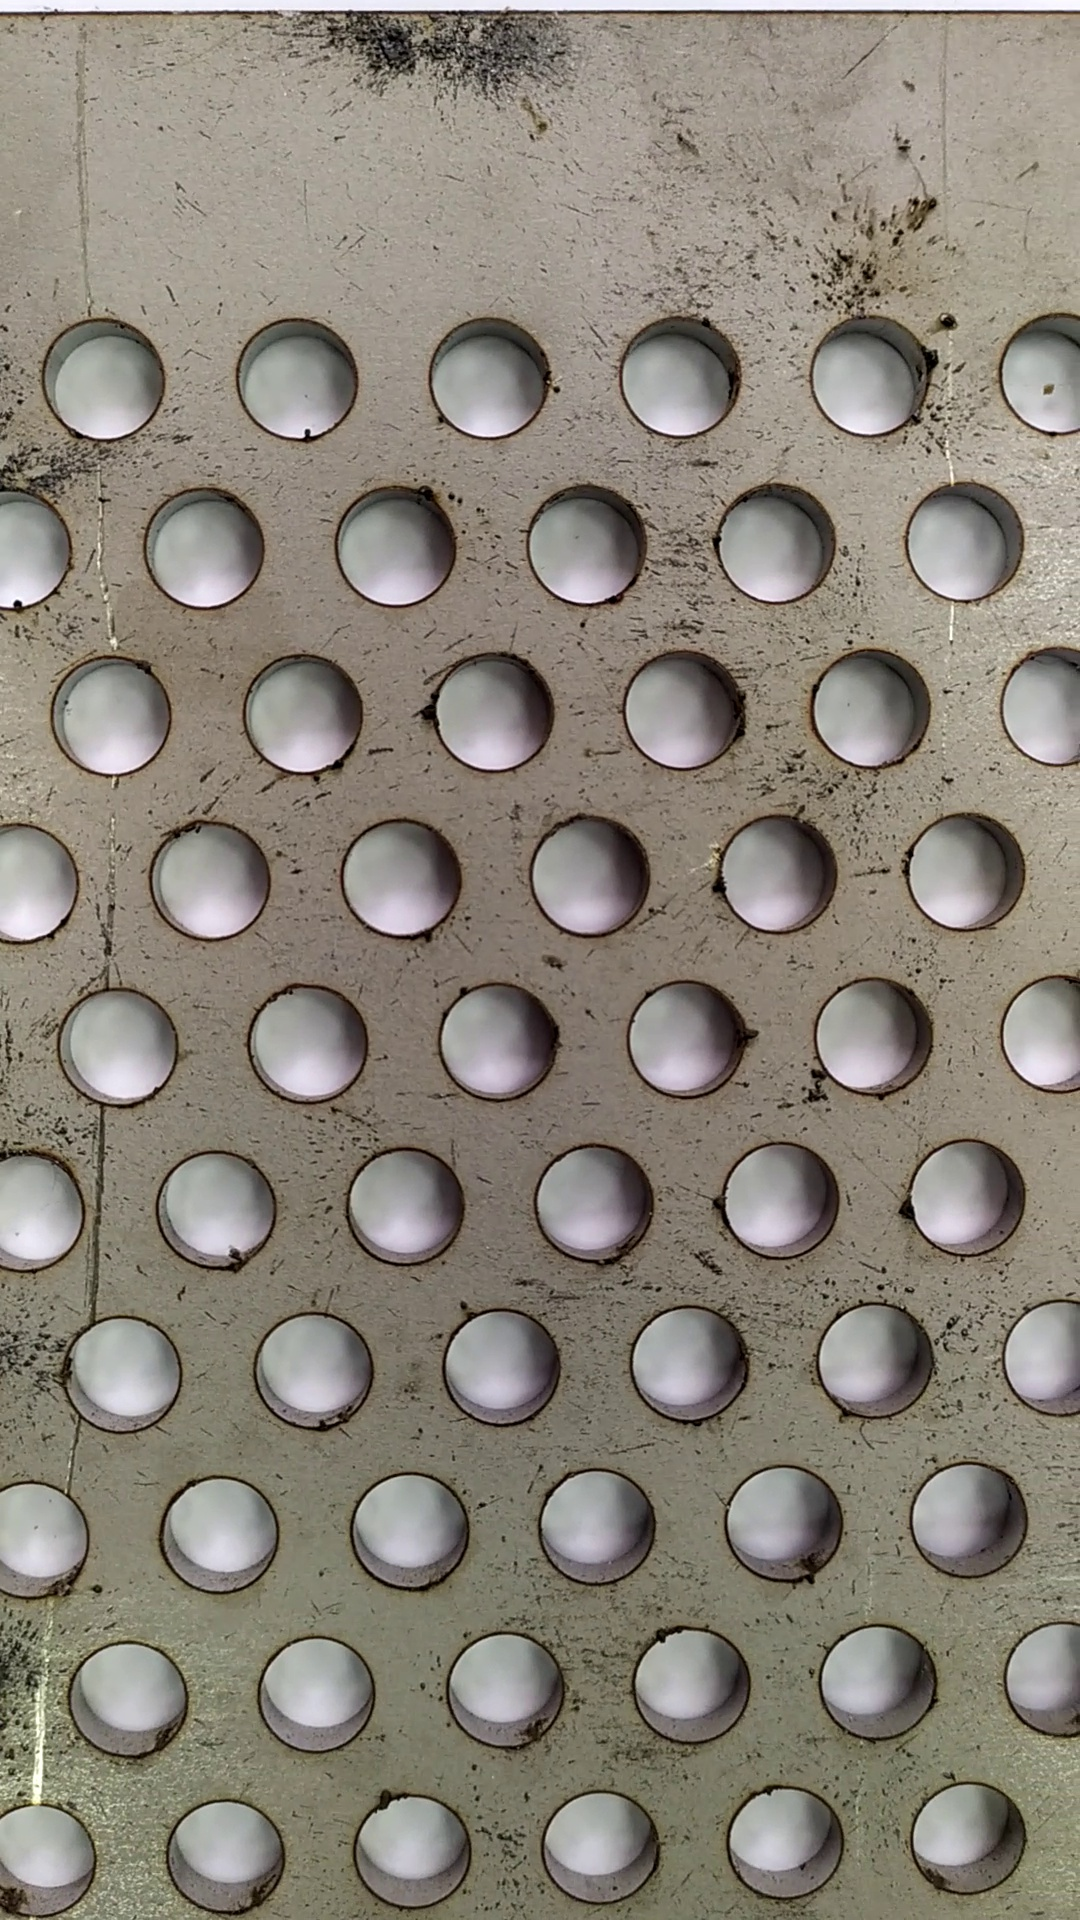Hole: (607, 971, 769, 1109), (334, 1460, 487, 1601), (510, 804, 663, 944), (516, 473, 663, 617), (704, 796, 843, 949), (30, 305, 173, 452), (414, 644, 563, 785), (128, 479, 280, 617), (324, 481, 477, 618), (796, 964, 940, 1109), (898, 799, 1040, 944), (704, 469, 847, 613), (233, 642, 377, 785), (530, 1456, 675, 1597), (518, 1130, 665, 1270), (705, 1134, 853, 1273), (36, 647, 185, 785), (338, 1782, 491, 1915), (712, 1771, 866, 1903), (615, 1295, 765, 1429), (225, 307, 371, 446), (429, 1298, 574, 1436), (622, 1619, 771, 1753), (436, 1622, 579, 1760), (57, 1630, 198, 1768), (894, 1131, 1034, 1270), (716, 1456, 855, 1596), (798, 642, 942, 777), (611, 311, 756, 444), (49, 978, 189, 1116), (798, 303, 934, 444), (414, 307, 556, 442), (336, 807, 471, 949), (340, 1134, 481, 1269), (240, 978, 381, 1112), (141, 815, 280, 949), (240, 1302, 381, 1433), (430, 975, 564, 1112), (153, 1793, 305, 1915), (149, 1146, 285, 1280), (905, 1451, 1040, 1585), (611, 644, 746, 777), (247, 1625, 382, 1758), (804, 1294, 943, 1424), (905, 1774, 1044, 1903), (153, 1464, 289, 1596), (808, 1615, 943, 1746), (541, 1785, 675, 1913), (898, 473, 1026, 607), (59, 1309, 187, 1440)
